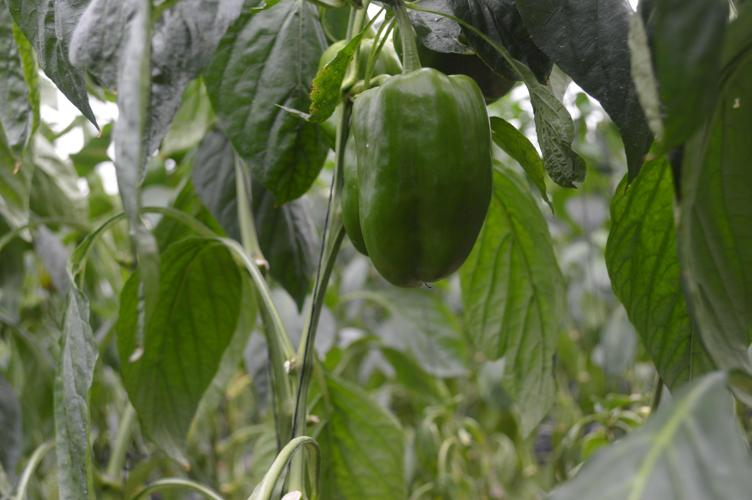BellPepper: (337, 66, 491, 285), (310, 40, 401, 144)
